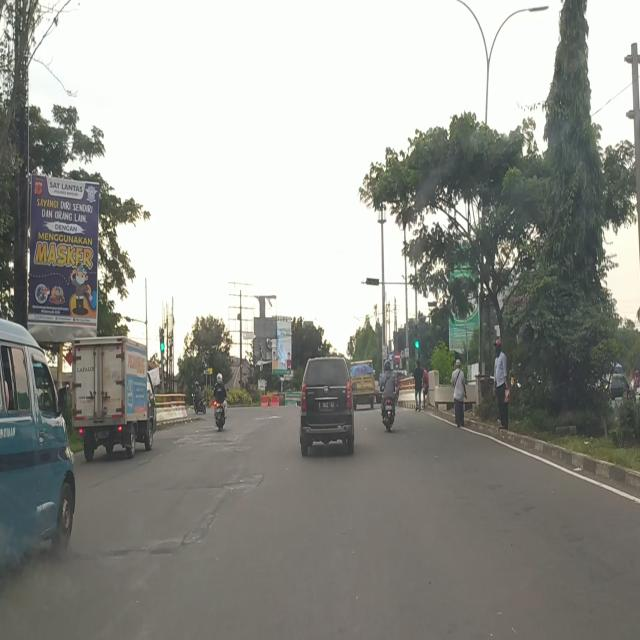Sewer Cover: (82, 548, 174, 558), (162, 482, 242, 489)
